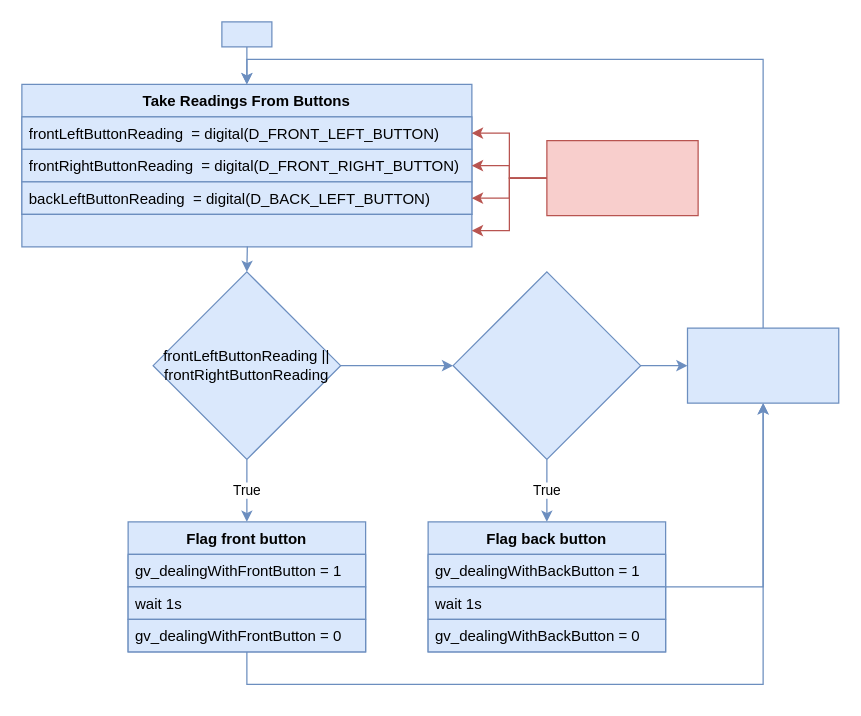
Some shapes in this 861 by 716 pixel diagram are drawn without their labels. The shapes that lost their labels are listed below. From the top down, each one's centre as x and y in pixels, then its label:
At (246,34): "Start".
At (622,177): "Buttons".
At (246,230): "backRightButtonReading = digital(D_BACK_RIGHT_BUTTON)".
At (546,365): "backLeftButtonReading || backRightButtonReading".
At (762,365): "Wait 100ms".
